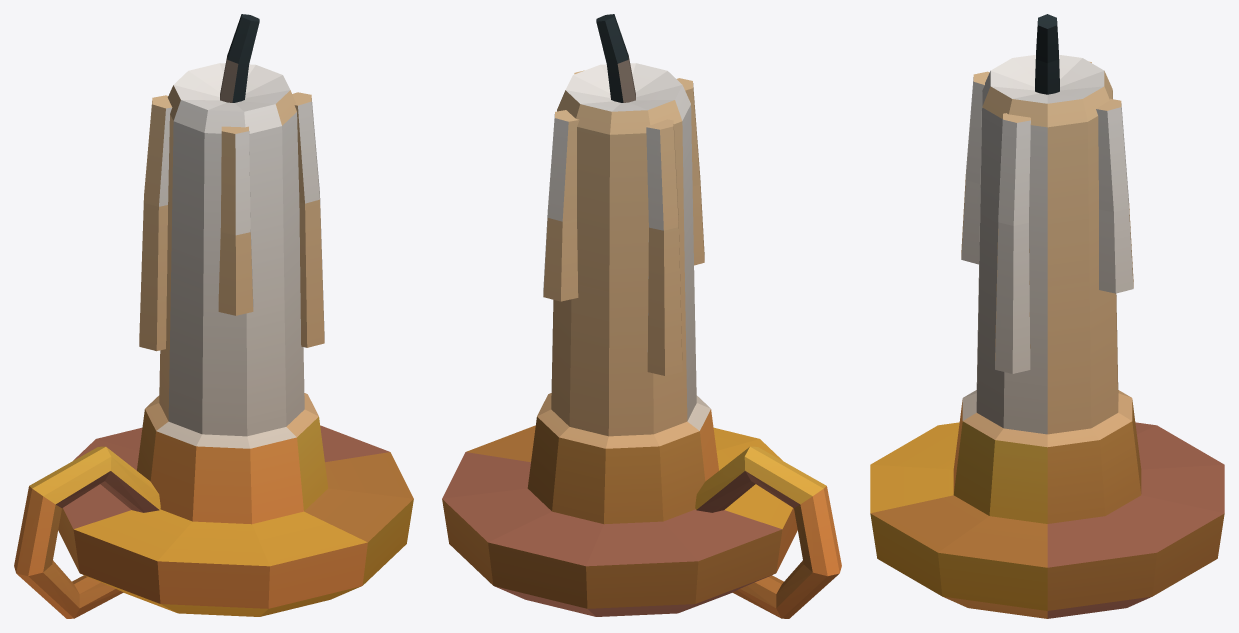
Rendered from source.glb.
The picture shows the model from 3 angles, left to right: view 1: azimuth 30°, elevation 25°; view 2: azimuth 150°, elevation 25°; view 3: azimuth 270°, elevation 25°; orthographic projection.
Visible parts, largest first — view 1: model; view 2: model; view 3: model.
Part boxes in pixels (x1,y1,x2,y2): model: [14, 14, 413, 618]; model: [442, 14, 841, 618]; model: [870, 14, 1224, 618].
Bounding box in the file's own units: 0.6023 × 0.8601 × 0.485.
Materials: 1 (1 with a texture image).
